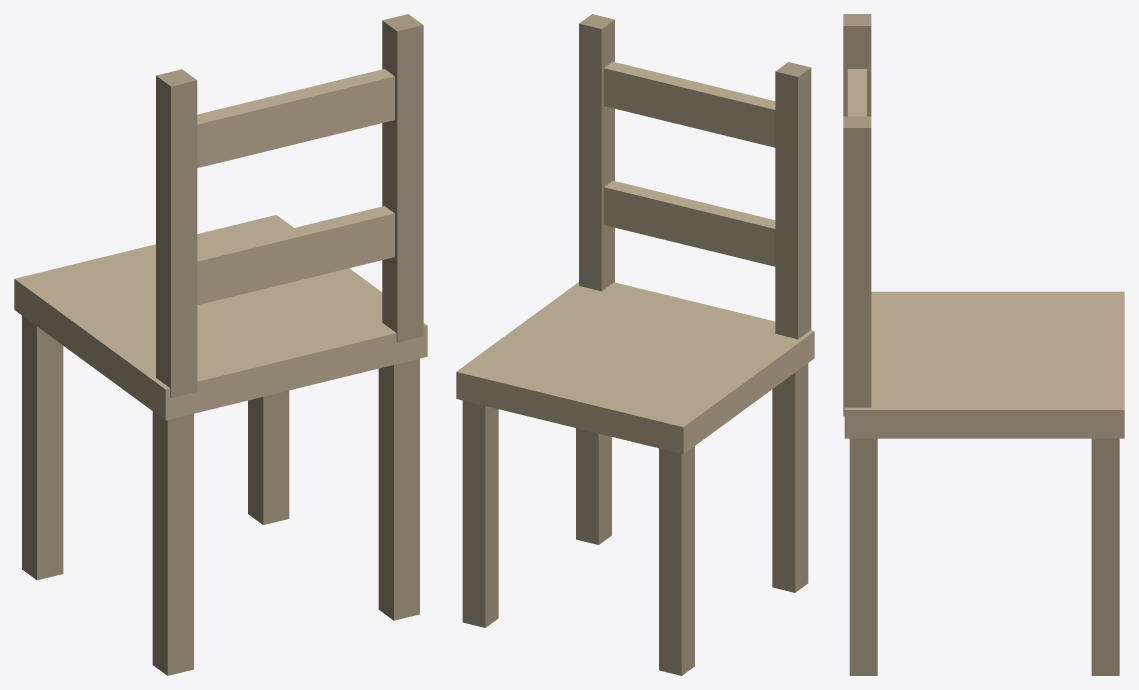
Rendered from chair.glb.
3 renders of one model, left to right at view 1: azimuth 30°, elevation 25°; view 2: azimuth 150°, elevation 25°; view 3: azimuth 270°, elevation 25°, orthographic. The views are drawn at different scales.
Visible parts, largest first — view 1: chair; view 2: chair; view 3: chair.
Part boxes in pixels (<box>): chair: <box>14,14,427,675</box>; chair: <box>456,14,814,675</box>; chair: <box>843,14,1124,675</box>.
Size of the model in its own units: 0.44 by 0.95 by 0.442.
